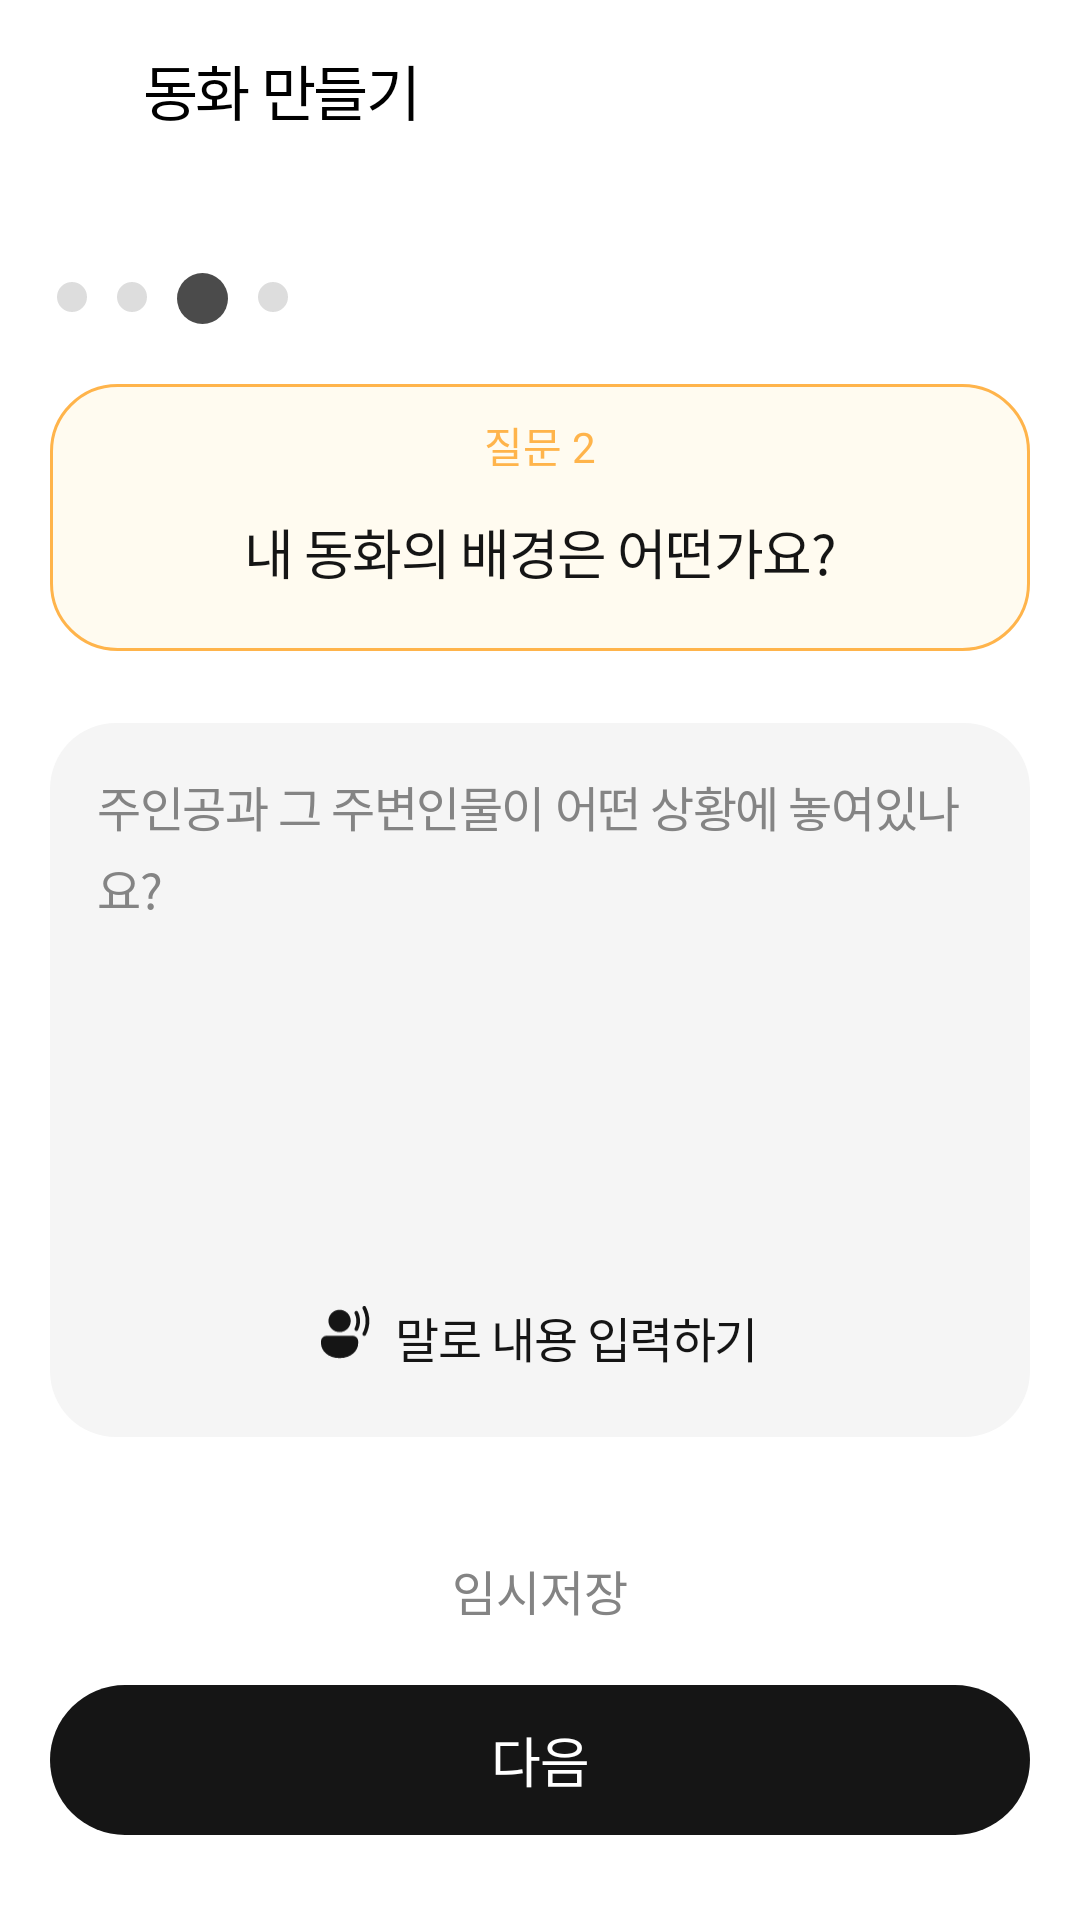

Locate icon controls on the screen. Image size 1080x1920, boxes as bbox(x1, y1, x2, y2).
음성 입력: bbox(321, 1306, 370, 1359)
